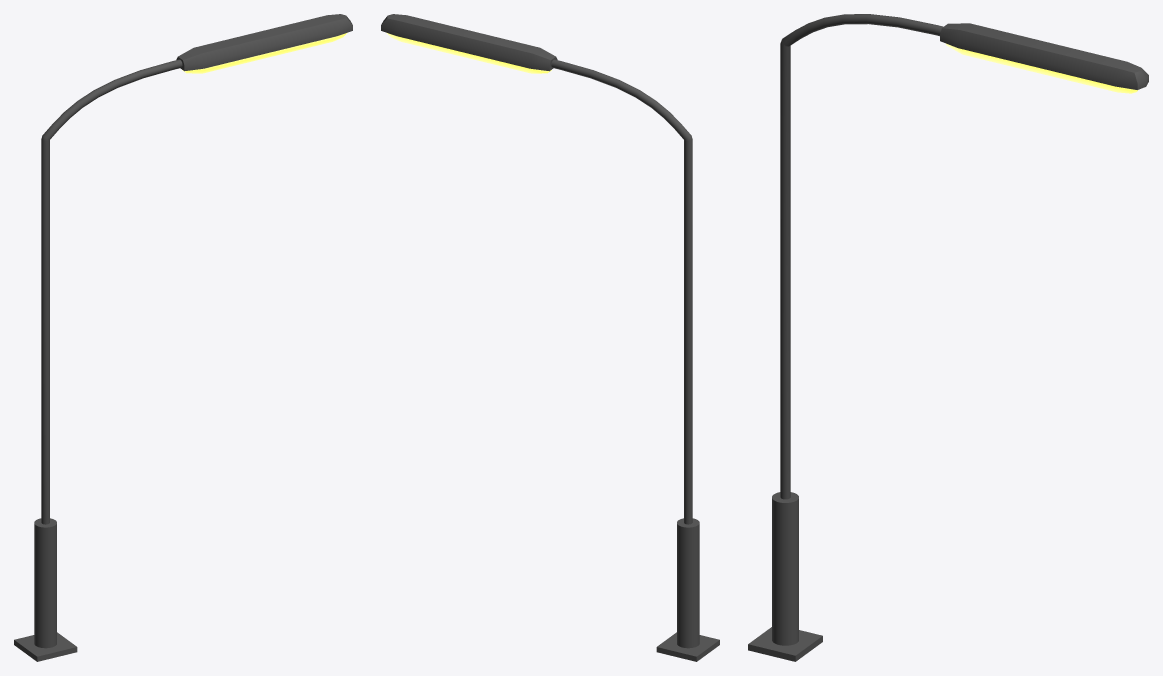
File: Street_Modern_L_Elongated.fbx
The picture shows the model from 3 angles, left to right: view 1: azimuth 30°, elevation 25°; view 2: azimuth 150°, elevation 25°; view 3: azimuth 330°, elevation 25°; orthographic projection. The views are drawn at different scales.
Visible parts, largest first — view 1: Street_Modern_L_Elongated_LOD0; view 2: Street_Modern_L_Elongated_LOD0; view 3: Street_Modern_L_Elongated_LOD0.
Boxes of the visible parts, <box> form: Street_Modern_L_Elongated_LOD0: <box>14,14,352,661</box>; Street_Modern_L_Elongated_LOD0: <box>381,14,719,661</box>; Street_Modern_L_Elongated_LOD0: <box>748,14,1148,661</box>.
Size of what is drawn, in the model's own units: 324 by 535 by 40.
